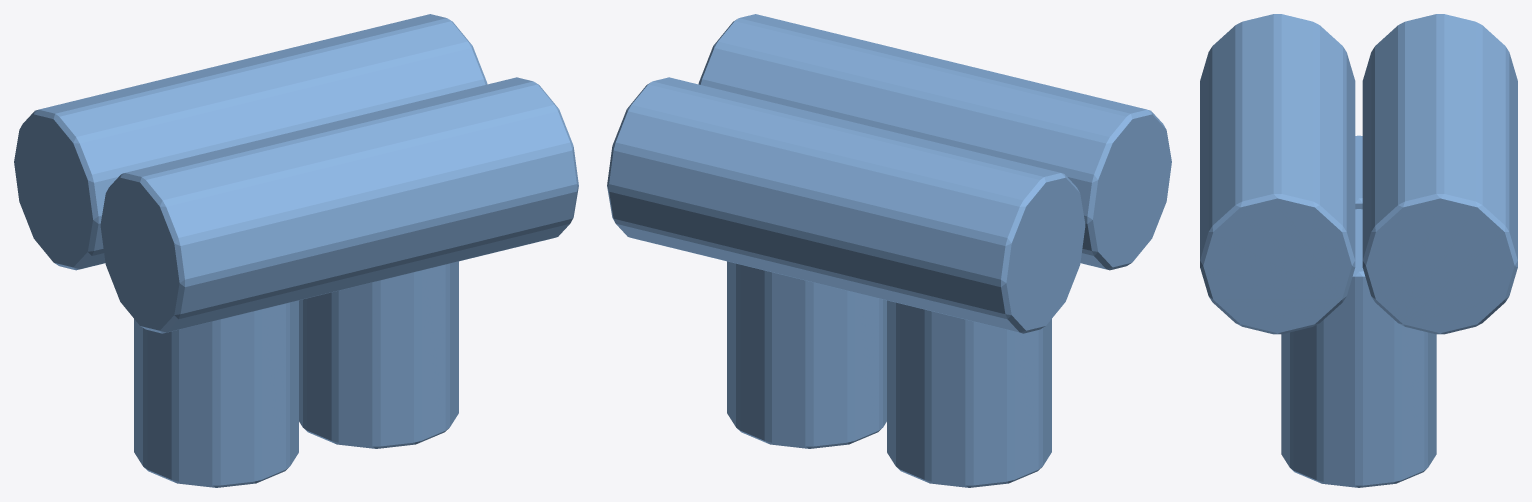
The model's file is 道具_油桶堆_01.fbx.
3 renders of one model, left to right at view 1: azimuth 30°, elevation 25°; view 2: azimuth 150°, elevation 25°; view 3: azimuth 270°, elevation 25°, orthographic. The views are drawn at different scales.
Parts seen in each view (by area): view 1: 上层, 下层; view 2: 上层, 下层; view 3: 上层, 下层.
Boxes of the visible parts, box(x1,y1,x2,y2) form: 上层: box(14, 14, 578, 333); 下层: box(134, 261, 458, 487); 上层: box(607, 14, 1171, 333); 下层: box(727, 261, 1051, 487); 上层: box(1200, 14, 1517, 334); 下层: box(1281, 135, 1436, 487).
Size of the model in its own units: 160 by 129 by 117.
